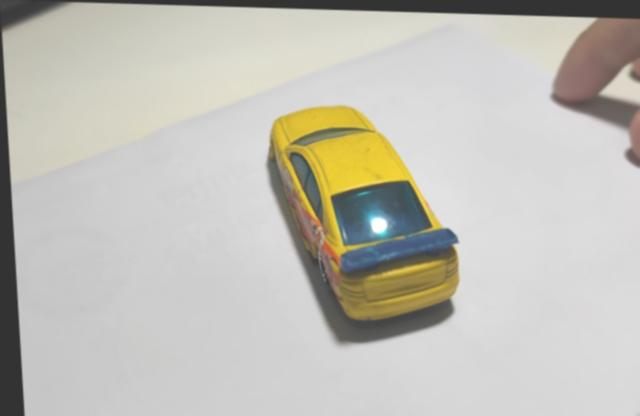02_OZSOME: (265, 104, 457, 323)
